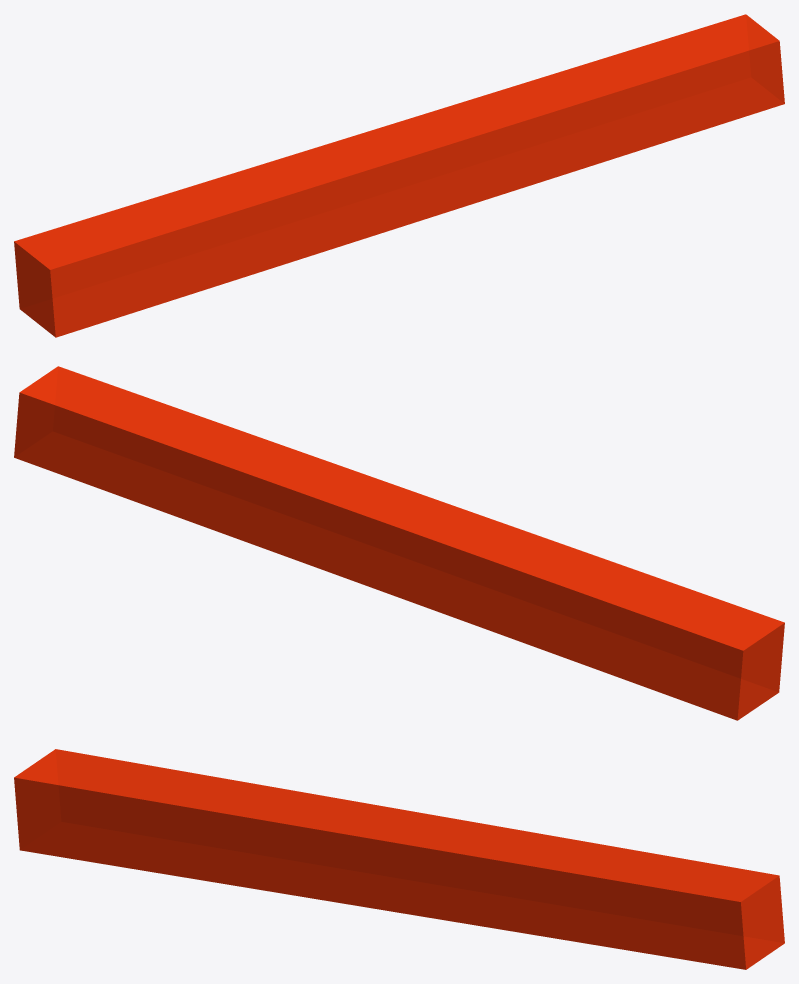
The model's file is Event_421115418_EErechit_52.fbx.
The picture shows the model from 3 angles, top to bottom: view 1: azimuth 30°, elevation 25°; view 2: azimuth 150°, elevation 25°; view 3: azimuth 330°, elevation 25°; orthographic projection. The views are drawn at different scales.
Visible parts, largest first — view 1: Model; view 2: Model; view 3: Model.
Boxes of the visible parts, bbox=[...] form: Model: bbox=[14, 14, 784, 337]; Model: bbox=[14, 366, 784, 720]; Model: bbox=[14, 749, 784, 969].
Size of the model in its own units: 0.8505 by 0.1494 by 0.1044.
